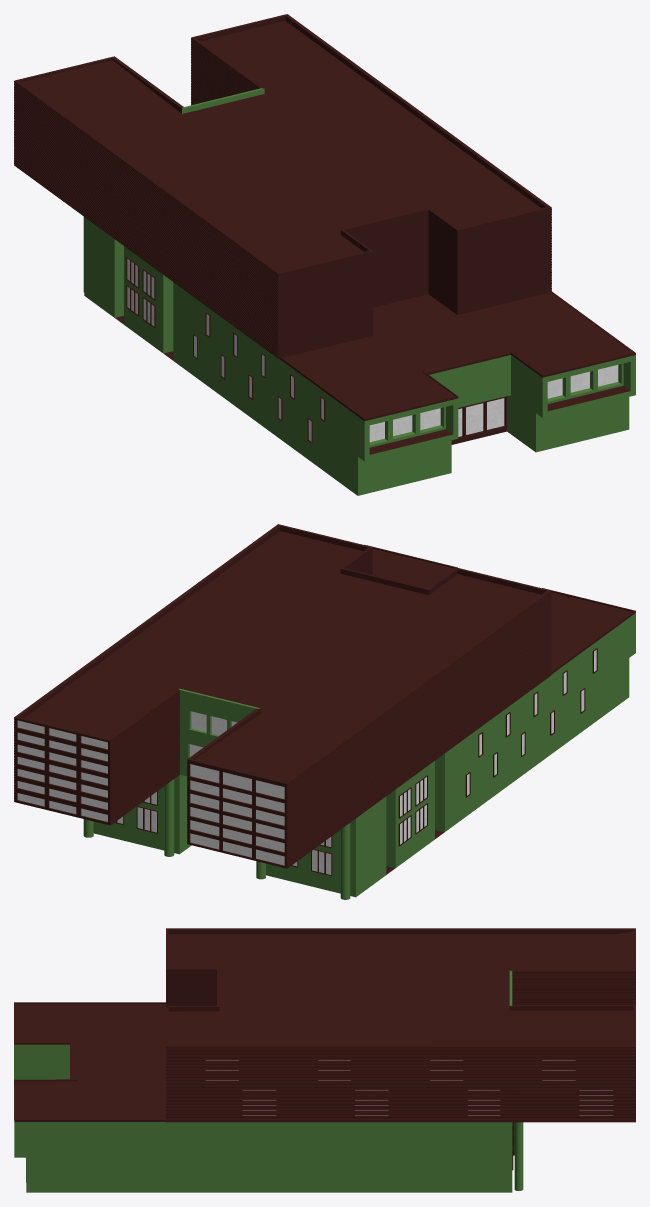
The model's file is IAE.gltf.
3 views of the same model, one above another, from view 1: azimuth 30°, elevation 25°; view 2: azimuth 150°, elevation 25°; view 3: azimuth 270°, elevation 25° (orthographic). The views are drawn at different scales.
Visible parts, largest first — view 1: IAR; view 2: IAR; view 3: IAR.
Part boxes in pixels (bbox=[...]): IAR: bbox=[14, 14, 635, 495]; IAR: bbox=[14, 524, 635, 899]; IAR: bbox=[14, 928, 635, 1192].
Size of the model in its own units: 28.78 by 16.53 by 63.7.
Materials: 3 (1 with a texture image).
